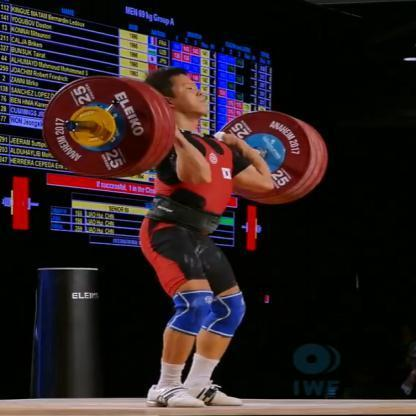barbell: (44, 77, 328, 205)
